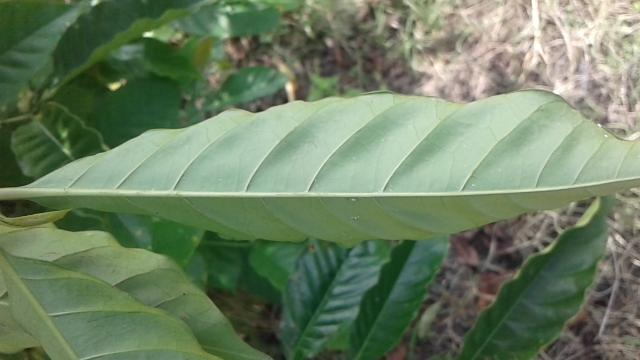healthy: (23, 81, 640, 250)
